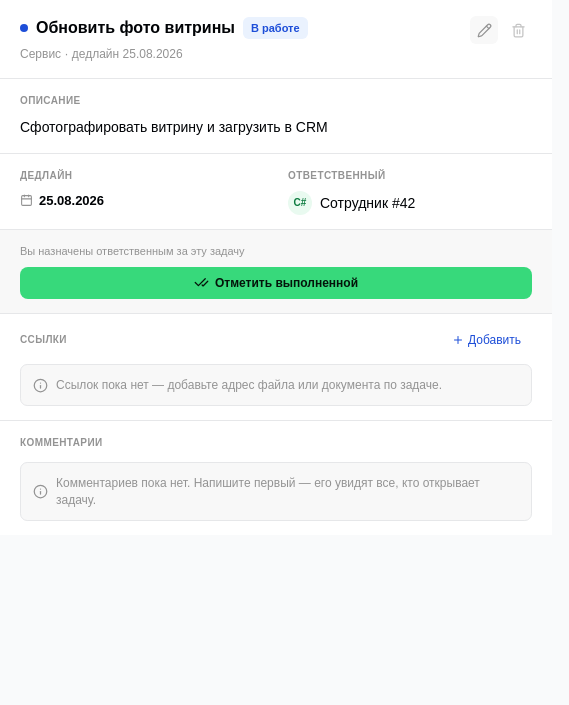
Test: TaskStatusControl › редактирование задачи (edit-task) › returns the card to view mode after a successful save
This screenshot has width=569, height=705.
Expected: the heading "Обновить фото витрины" is shown, [36,16,235,40]
Click the button named "Редактировать задачу": (484, 30) [470,16,498,44]
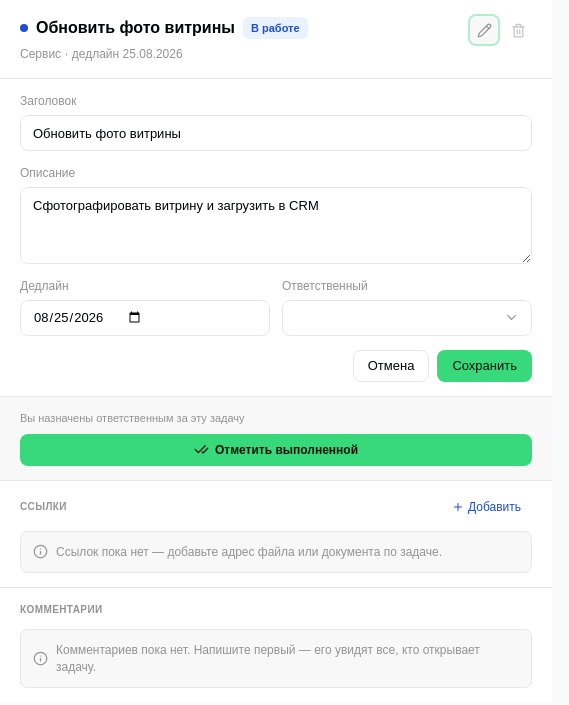
Result: the field labelled "Заголовок" is shown at [20,115,532,151]
Click the button "Сохранить": (485, 366) [437,350,532,382]
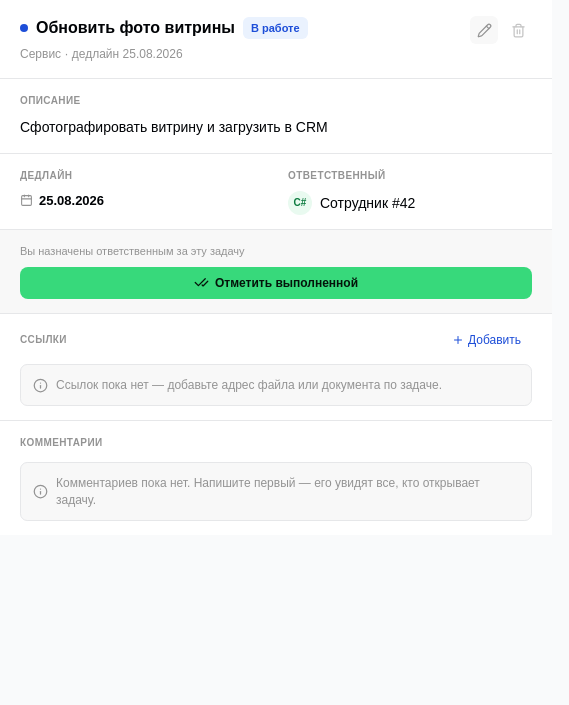
Result: the label labelled "Заголовок" is gone
